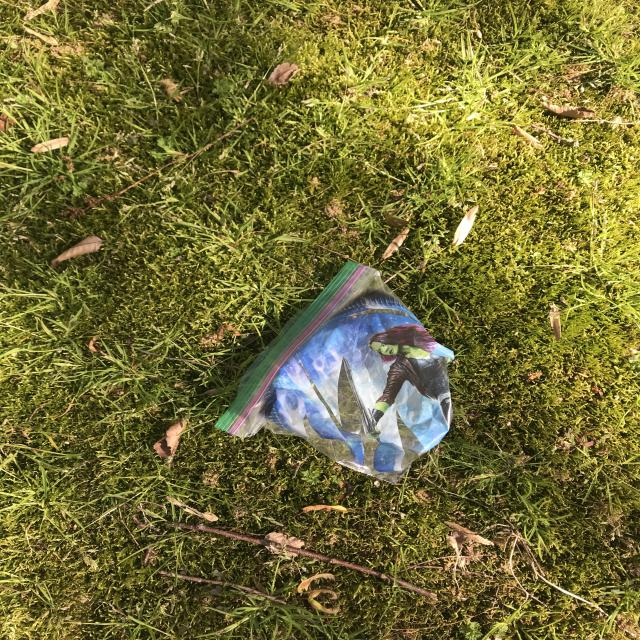litter: (211, 261, 454, 489)
